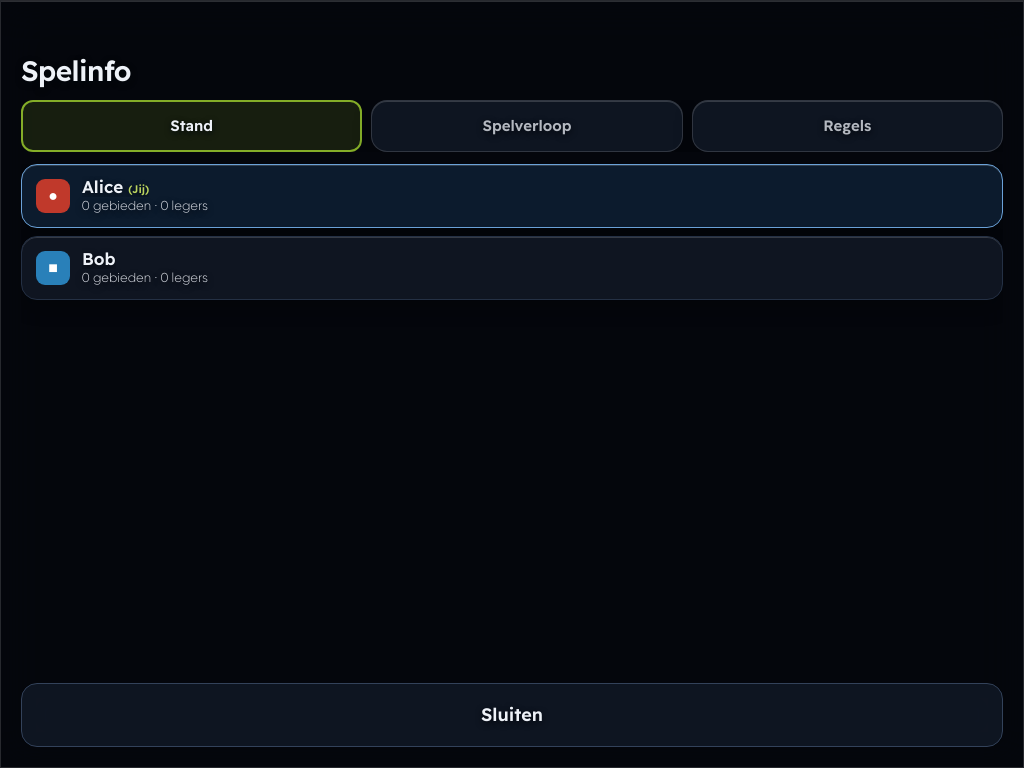
Scenario: GameInfoPanel › opent op de stand en wisselt naar de regels
This screenshot has width=1024, height=768.
Check: the heading "Spelinfo" is shown, box 21,53 -> 131,88
Check: the text "(Jij)" is shown, box 128,182 -> 149,196
Click the button "Regels".
click(847, 126)  # box 693,101 -> 1002,151
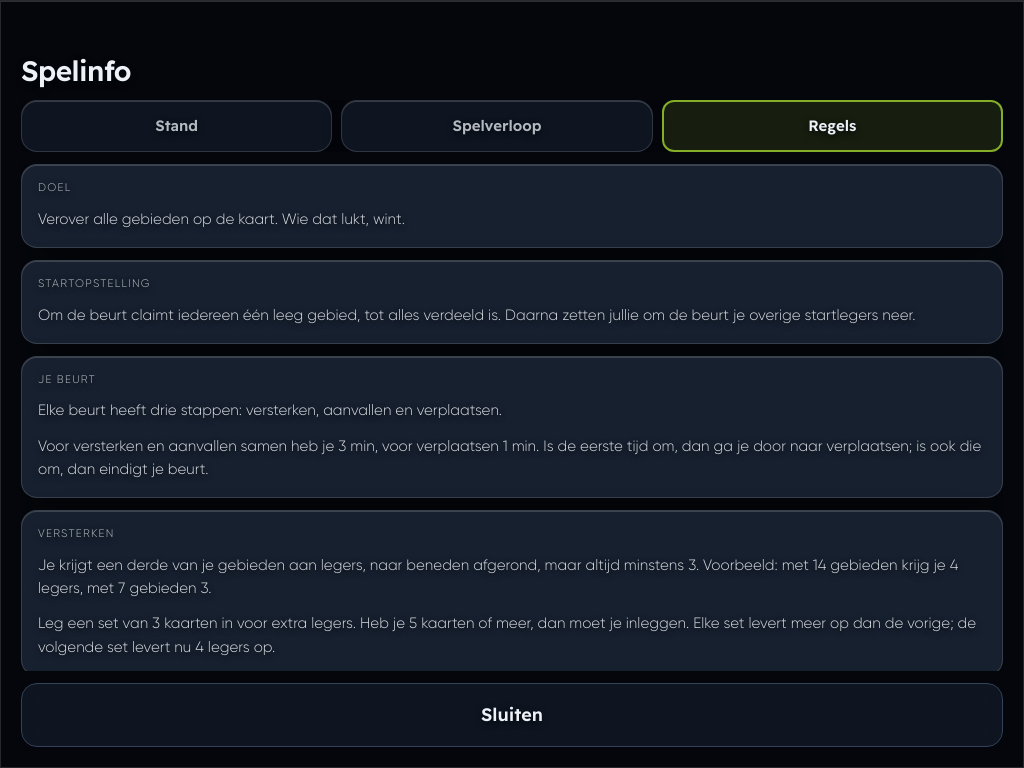
Check: the text "Versterken" is shown, box 38,527 -> 115,540
Check: the text "(Jij)" is gone
